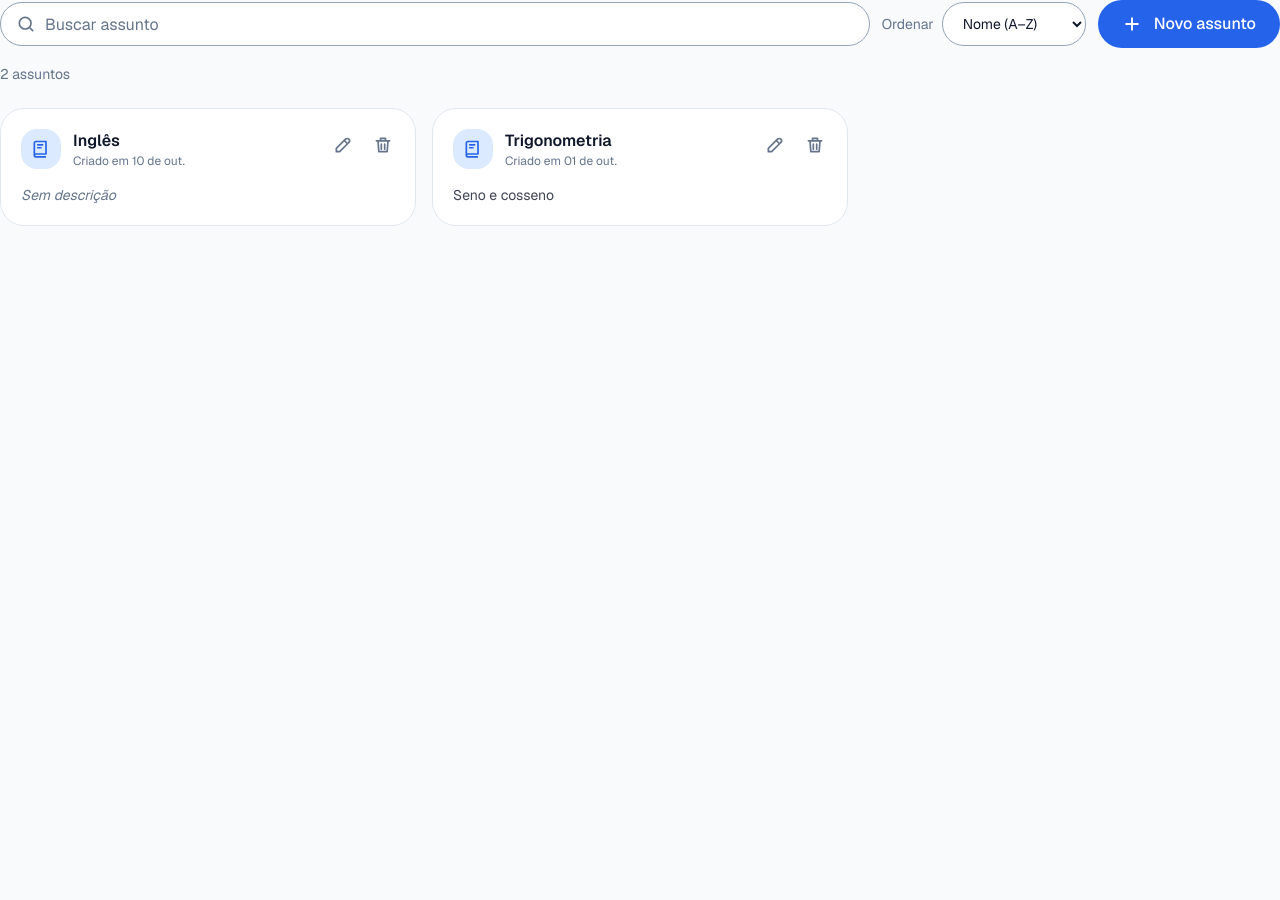
SubjectBoard › confirms deletion and shows why it failed
Click the button named "Excluir Inglês" at (383, 145), box [363,125,403,165]
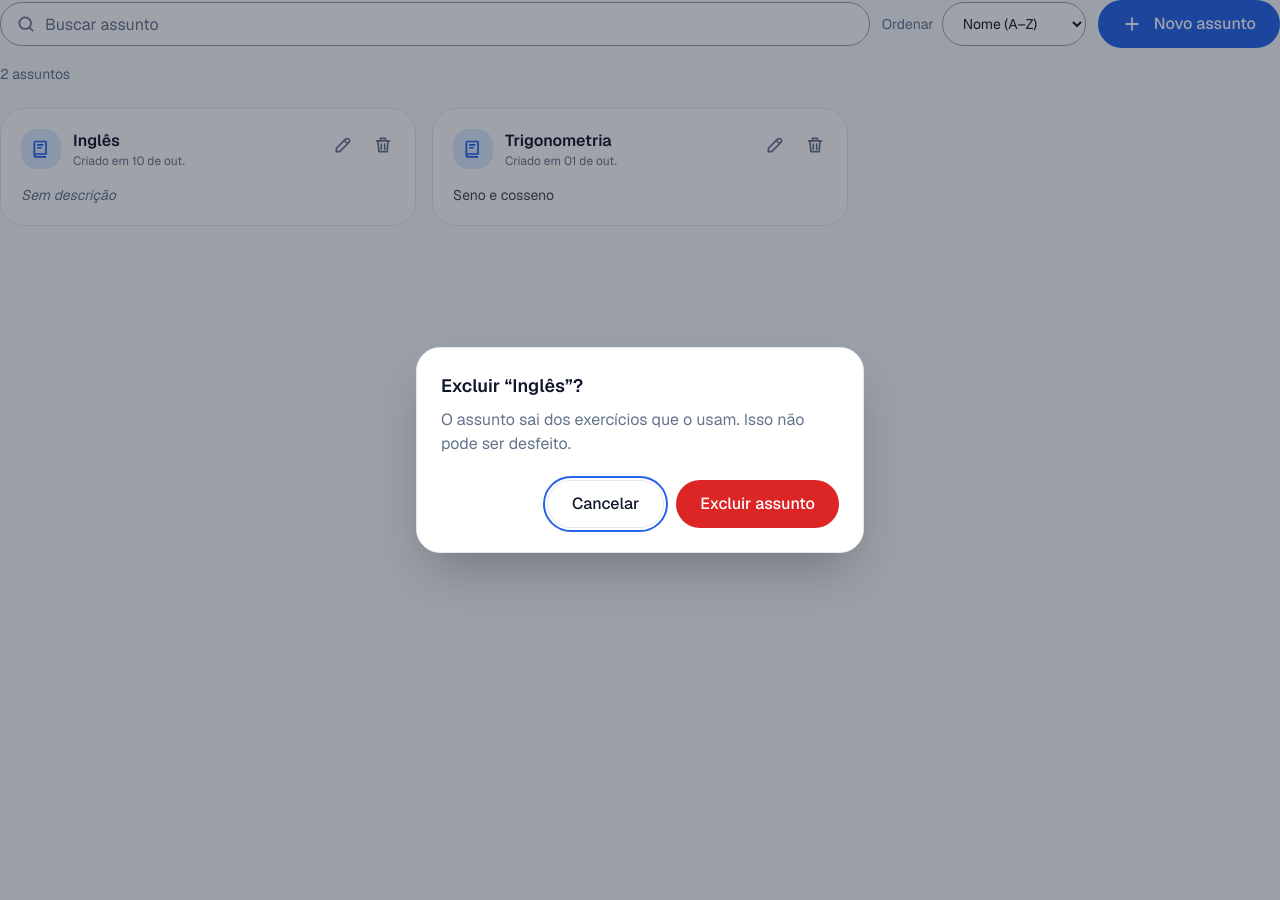
Click the button "Excluir assunto" at (758, 504), box [676,480,839,528]
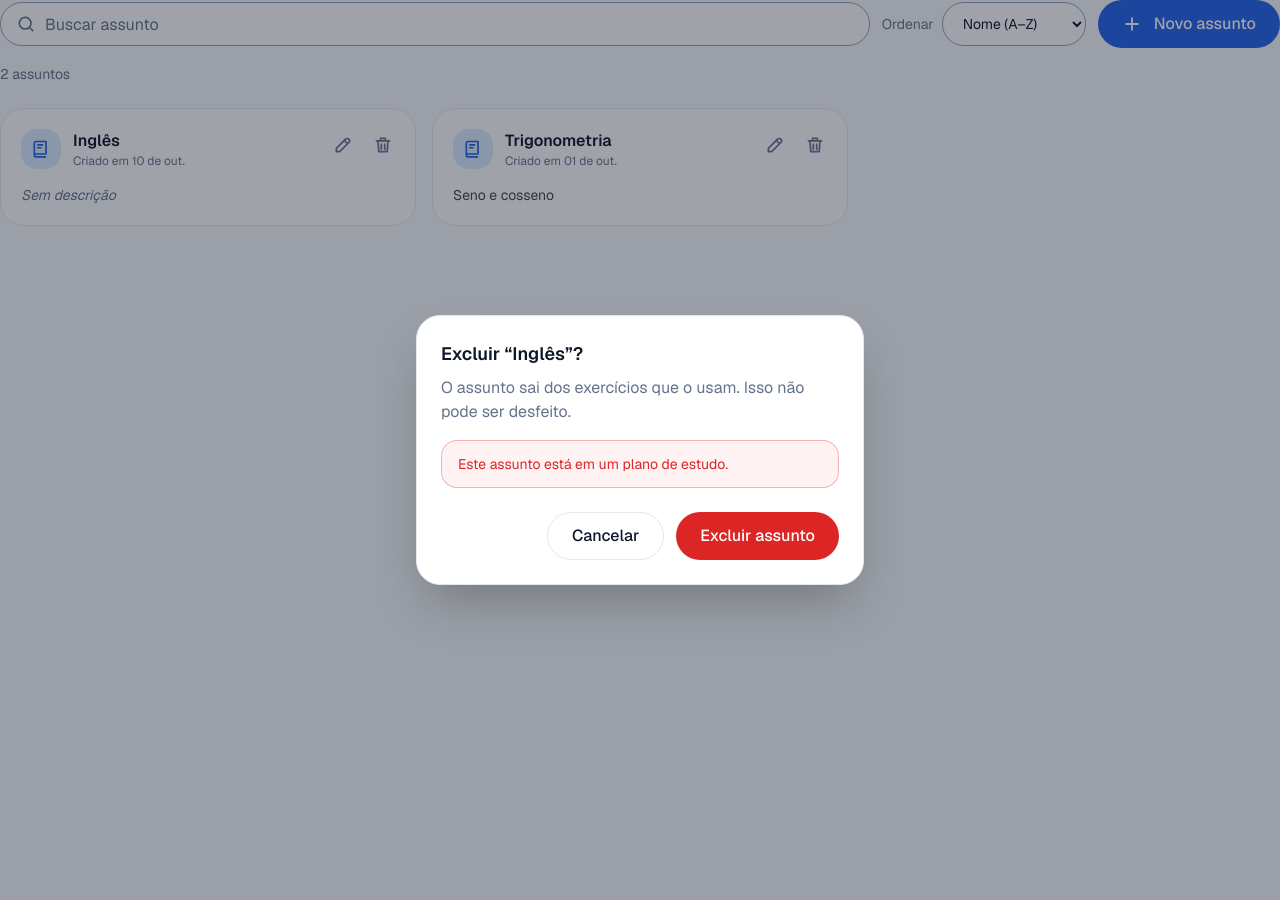
Result: the message shows "plano de estudo" at [458,455,728,473]
